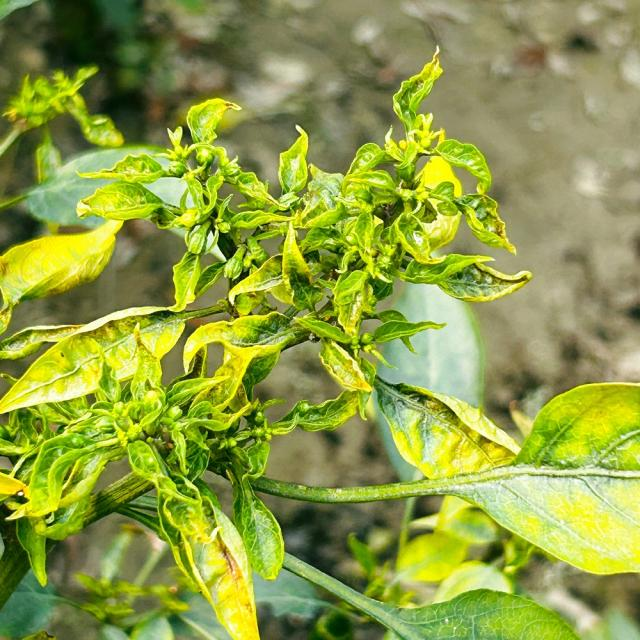Chilli_Leaf_Curl: (0, 44, 638, 638), (247, 377, 639, 578)
